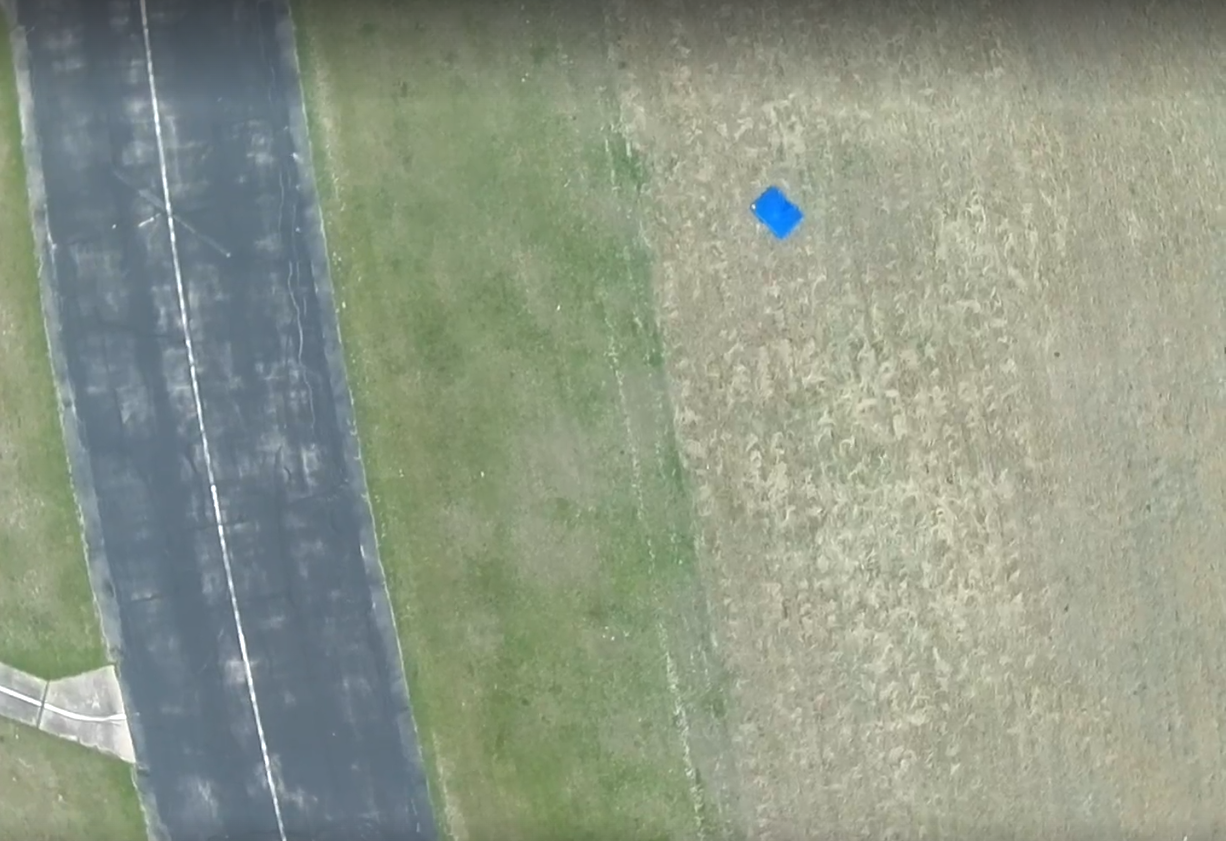TOI: (749, 184, 804, 238)
